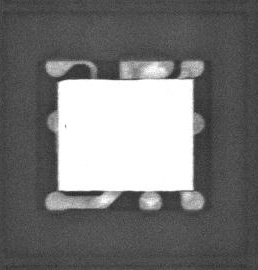DIE_INK: (62, 121, 68, 129)
